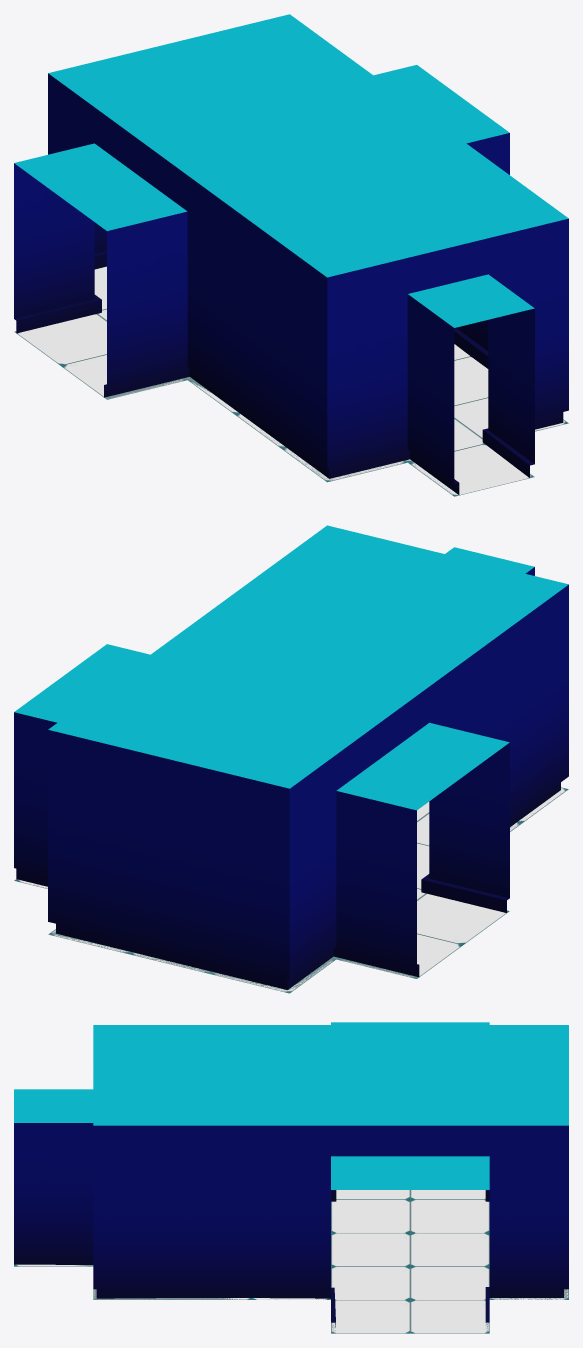
The model's file is Corredor2SaidasG.fbx.
3 views of the same model, one above another, from view 1: azimuth 30°, elevation 25°; view 2: azimuth 150°, elevation 25°; view 3: azimuth 270°, elevation 25° (orthographic). The views are drawn at different scales.
Visible parts, largest first — view 1: Corredor2SaidasG; view 2: Corredor2SaidasG; view 3: Corredor2SaidasG.
Boxes of the visible parts, box(x1,y1,x2,y2) form: Corredor2SaidasG: box(14, 14, 568, 496); Corredor2SaidasG: box(14, 525, 568, 993); Corredor2SaidasG: box(14, 1022, 568, 1333).
Bounding box in the file's own units: 500 × 243 × 700.
Materials: 1 (1 with a texture image).
